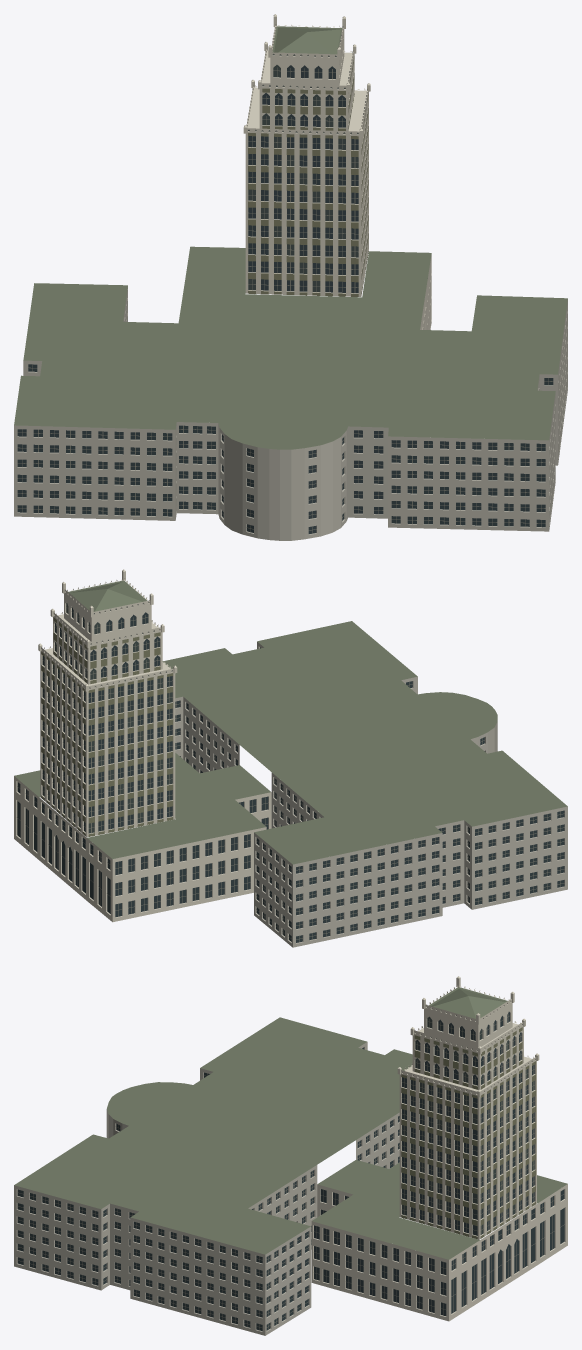
File: atlanta-city-hall-near.glb
The picture shows the model from 3 angles, top to bottom: view 1: azimuth 30°, elevation 25°; view 2: azimuth 150°, elevation 25°; view 3: azimuth 270°, elevation 25°; orthographic projection. The views are drawn at different scales.
Parts seen in each view (by area): view 1: atlanta-city-hall-0-roof, atlanta-city-hall-0-marble, atlanta-city-hall-0-glass, atlanta-city-hall-0-stone, atlanta-city-hall-0-spandrel, atlanta-city-hall-0-trim, atlanta-city-hall-0-light; view 2: atlanta-city-hall-0-roof, atlanta-city-hall-0-stone, atlanta-city-hall-0-marble, atlanta-city-hall-0-glass, atlanta-city-hall-0-spandrel, atlanta-city-hall-0-trim, atlanta-city-hall-0-light; view 3: atlanta-city-hall-0-roof, atlanta-city-hall-0-stone, atlanta-city-hall-0-marble, atlanta-city-hall-0-glass, atlanta-city-hall-0-spandrel, atlanta-city-hall-0-trim, atlanta-city-hall-0-light.
Boxes of the visible parts, box(x1,y1,x2,y2) form: atlanta-city-hall-0-roof: box(14, 26, 567, 449); atlanta-city-hall-0-marble: box(14, 287, 567, 540); atlanta-city-hall-0-glass: box(17, 26, 553, 534); atlanta-city-hall-0-stone: box(243, 14, 431, 329); atlanta-city-hall-0-spandrel: box(248, 56, 368, 296); atlanta-city-hall-0-trim: box(17, 51, 552, 533); atlanta-city-hall-0-light: box(248, 65, 358, 291); atlanta-city-hall-0-roof: box(14, 580, 567, 864); atlanta-city-hall-0-stone: box(14, 569, 271, 922); atlanta-city-hall-0-marble: box(175, 642, 567, 947); atlanta-city-hall-0-glass: box(17, 602, 564, 942); atlanta-city-hall-0-spandrel: box(41, 617, 173, 836); atlanta-city-hall-0-trim: box(17, 602, 564, 942); atlanta-city-hall-0-light: box(42, 603, 172, 833); atlanta-city-hall-0-roof: box(14, 987, 567, 1259); atlanta-city-hall-0-stone: box(311, 976, 567, 1321); atlanta-city-hall-0-marble: box(14, 1042, 399, 1335); atlanta-city-hall-0-glass: box(17, 1007, 564, 1331); atlanta-city-hall-0-spandrel: box(401, 1027, 535, 1239); atlanta-city-hall-0-trim: box(17, 1006, 564, 1330); atlanta-city-hall-0-light: box(402, 1016, 534, 1234).
Size of the model in its own units: 122 by 66.6 by 120.
